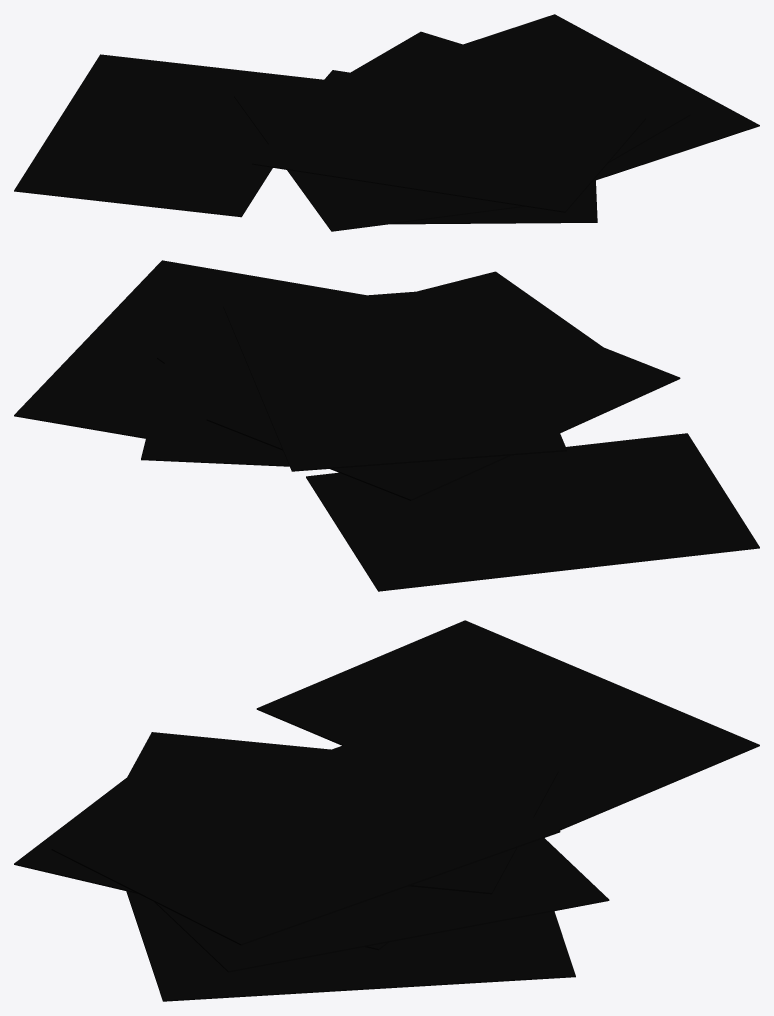
The model's file is SM_papers.fbx.
3 views of the same model, one above another, from view 1: azimuth 30°, elevation 25°; view 2: azimuth 150°, elevation 25°; view 3: azimuth 270°, elevation 25° (orthographic). The views are drawn at different scales.
Parts seen in each view (by area): view 1: papers; view 2: papers; view 3: papers.
Boxes of the visible parts, box(x1,y1,x2,y2) form: papers: box(14, 14, 759, 231); papers: box(14, 260, 759, 591); papers: box(14, 620, 759, 1001).
Size of the model in its own units: 0.6431 by 0.0065 by 0.5313.
